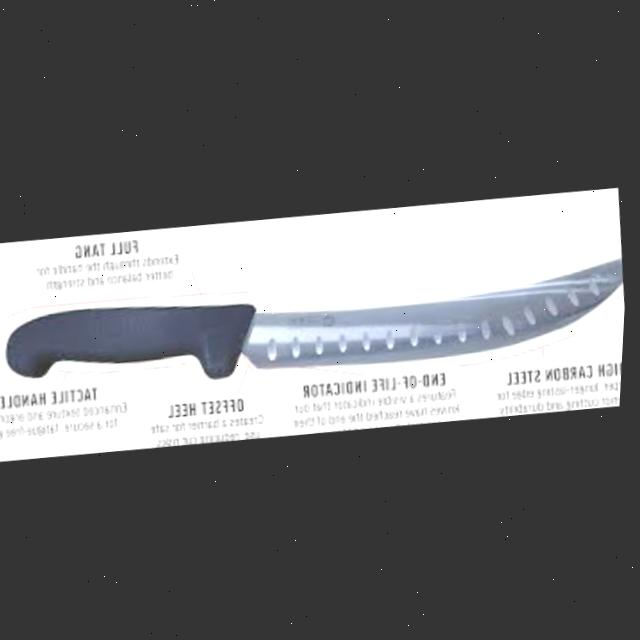knife: (3, 242, 630, 402)
